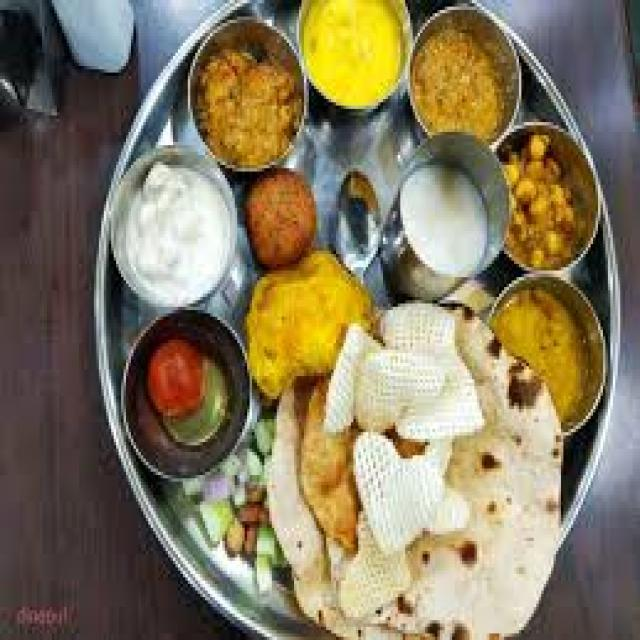curd: (106, 151, 243, 311), (389, 136, 514, 287), (45, 3, 140, 78)
dal: (412, 9, 527, 153), (300, 5, 409, 114)
papad: (322, 299, 497, 464), (242, 251, 368, 395)
pickle: (122, 313, 245, 454)
raita: (110, 156, 243, 307), (391, 144, 513, 282), (43, 1, 141, 76)
rice: (444, 399, 563, 553)
roti: (331, 519, 481, 632)
sambar-rasam: (411, 7, 527, 143)
sweet: (125, 314, 242, 455)
